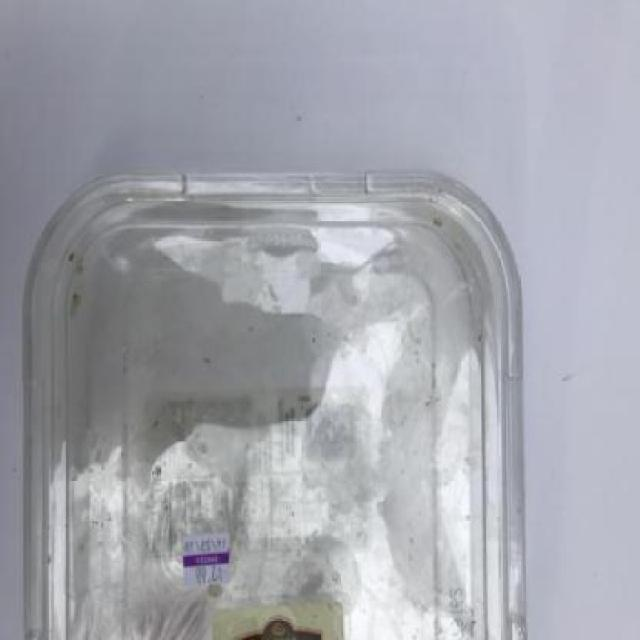PLASTIC: (23, 167, 528, 638)
